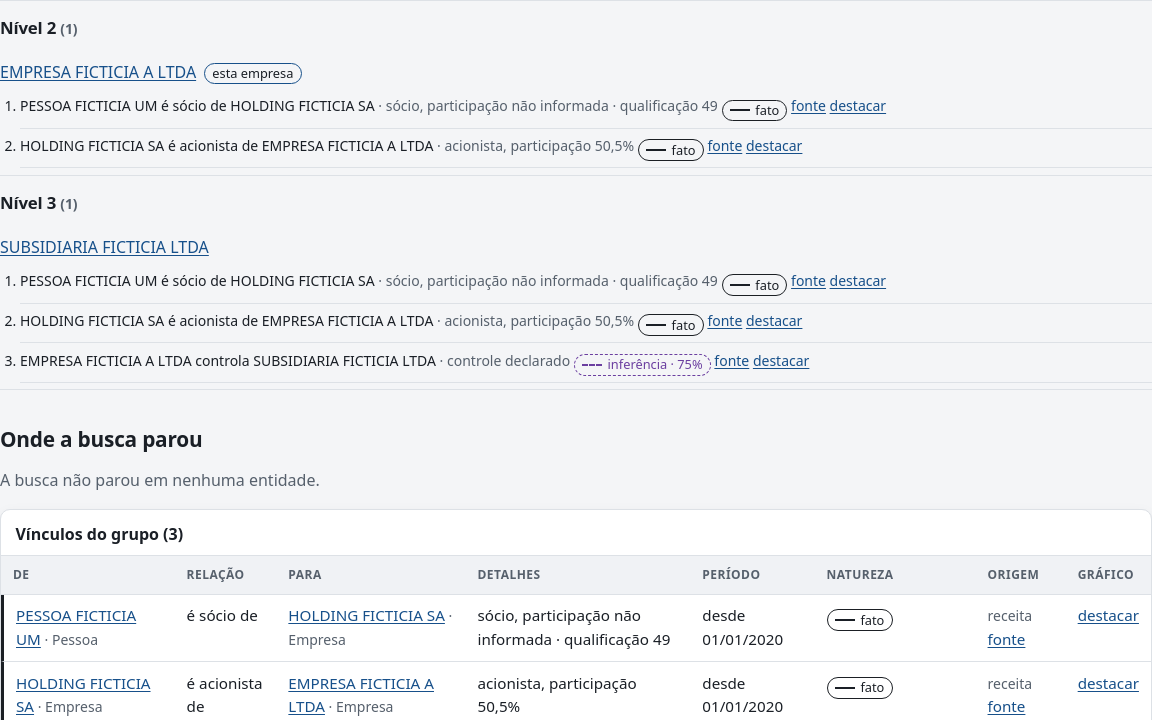
ControlGroupPage › cada elo da cadeia de um membro tem "fonte" (abre a proveniência dele) e "destacar"
The width and height of the screenshot is (1152, 720).
Later steps or results of the test are not shown.
(page scrolled)
Expected: the 3rd button "fonte" is shown, 791,270 -> 826,292
Expected: the button with aria-label "Destacar no gráfico" is shown, 830,270 -> 886,292
Step 1. Click the 5th button "fonte" → (732, 361), box 714,350 -> 749,372
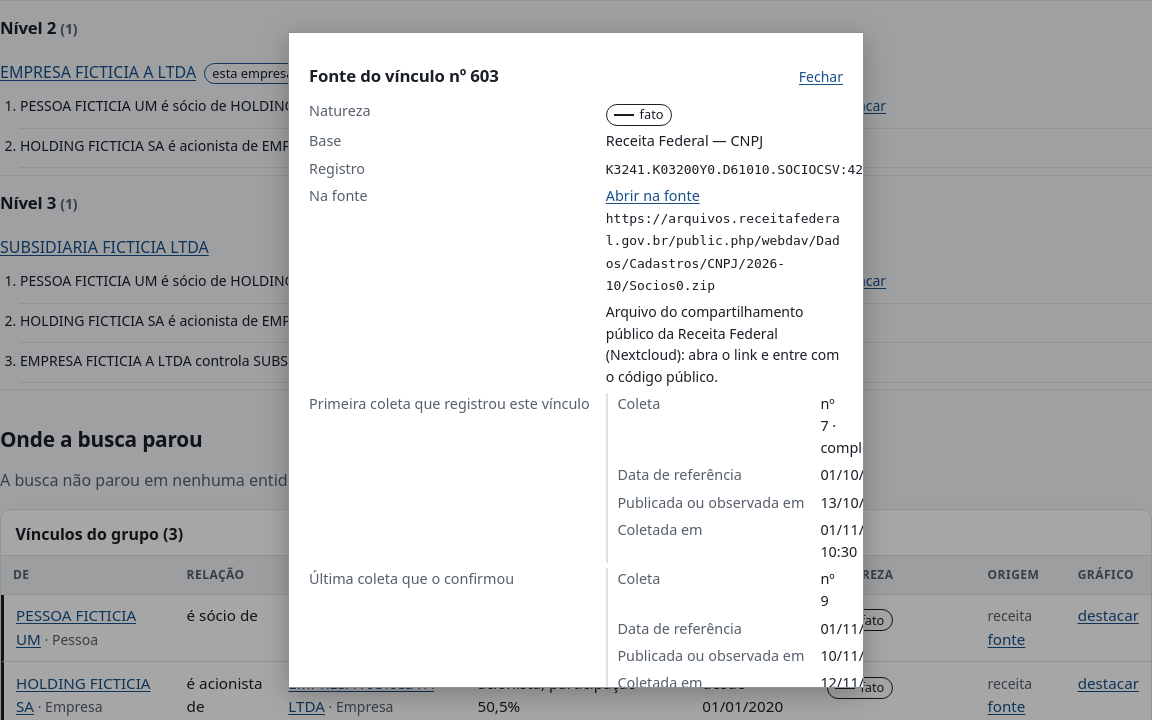
Expected: the heading "Fonte do vínculo nº 603" is shown, 309,65 -> 499,86
Expected: the text "Receita Federal — CNPJ" is shown, 606,131 -> 763,150
